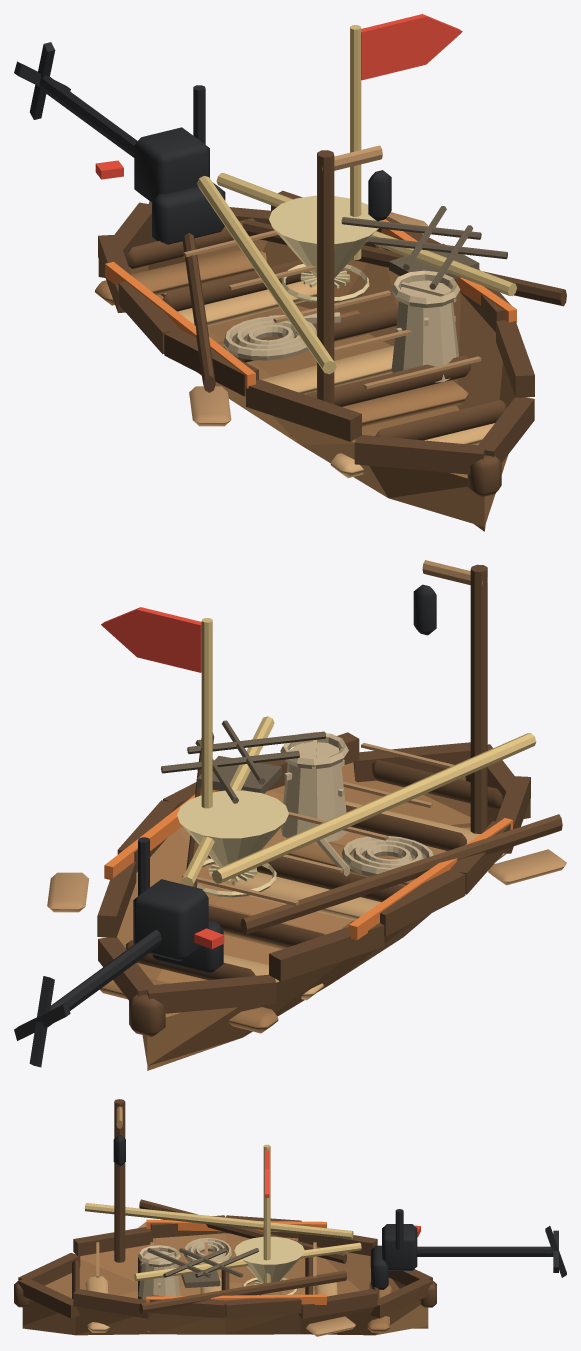
Rendered from FR_Boat_Rescue_A_BlenderSource.fbx.
3 renders of one model, top to bottom at view 1: azimuth 30°, elevation 25°; view 2: azimuth 150°, elevation 25°; view 3: azimuth 270°, elevation 25°, orthographic. The views are drawn at different scales.
Visible parts, largest first — view 1: Boat_Hull_Long_Curved_Wooden, CentralVN_Attached_Red_Rescue_Pennant, Rear_Motor_Block, Vietnamese_Conical_Hat_Non_La, Woven_Basket_Tapered_Body, Lantern_Wooden_Pole, Hull_Dark_Side_Rim_Left_1, Hull_Dark_Side_Rim_Left_2, CentralVN_Bamboo_Pole_Deck_Left, Rear_Motor_Wood_Mount, Inner_Wooden_Floor_Plank_2, Inner_Wooden_Floor_Plank_6 (+37 smaller); view 2: Boat_Hull_Long_Curved_Wooden, Vietnamese_Conical_Hat_Non_La, Wooden_Oar_Left_Handle, CentralVN_Bamboo_Pole_Deck_Left, Rear_Motor_Block, Lantern_Wooden_Pole, CentralVN_Attached_Red_Rescue_Pennant, Woven_Basket_Tapered_Body, Hull_Dark_Side_Rim_Left_6, Hull_Dark_Side_Rim_Left_5, Hull_Dark_Side_Rim_Left_4, CentralVN_Bamboo_Rescue_Flag_Pole (+38 smaller); view 3: Boat_Hull_Long_Curved_Wooden, CentralVN_Bamboo_Pole_Deck_Left, Wooden_Oar_Right_Handle, Vietnamese_Conical_Hat_Non_La, Lantern_Wooden_Pole, Rear_Long_Propeller_Shaft, Rear_Motor_Block, Hull_Dark_Side_Rim_Right_4, Hull_Dark_Side_Rim_Right_2, Hull_Dark_Side_Rim_Right_5, Hull_Dark_Side_Rim_Left_2, Hull_Dark_Side_Rim_Right_1 (+26 smaller).
Part boxes in pixels (x1=…): Boat_Hull_Long_Curved_Wooden: x1=128, y1=239, x2=515, y2=531; CentralVN_Attached_Red_Rescue_Pennant: x1=361, y1=14, x2=462, y2=80; Rear_Motor_Block: x1=134, y1=127, x2=209, y2=202; Vietnamese_Conical_Hat_Non_La: x1=269, y1=195, x2=381, y2=277; Woven_Basket_Tapered_Body: x1=391, y1=280, x2=458, y2=382; Lantern_Wooden_Pole: x1=317, y1=150, x2=334, y2=404; Hull_Dark_Side_Rim_Left_1: x1=354, y1=435, x2=485, y2=474; Hull_Dark_Side_Rim_Left_2: x1=246, y1=379, x2=361, y2=441; CentralVN_Bamboo_Pole_Deck_Left: x1=197, y1=176, x2=336, y2=374; Rear_Motor_Wood_Mount: x1=152, y1=183, x2=225, y2=244; Inner_Wooden_Floor_Plank_2: x1=287, y1=380, x2=468, y2=439; Inner_Wooden_Floor_Plank_6: x1=95, y1=249, x2=266, y2=305; Boat_Hull_Long_Curved_Wooden: x1=117, y1=762, x2=500, y2=1070; Vietnamese_Conical_Hat_Non_La: x1=177, y1=790, x2=288, y2=878; Wooden_Oar_Left_Handle: x1=240, y1=814, x2=562, y2=935; CentralVN_Bamboo_Pole_Deck_Left: x1=212, y1=733, x2=536, y2=883; Rear_Motor_Block: x1=133, y1=879, x2=208, y2=961; Lantern_Wooden_Pole: x1=470, y1=564, x2=487, y2=833; CentralVN_Attached_Red_Rescue_Pennant: x1=101, y1=607, x2=201, y2=672; Woven_Basket_Tapered_Body: x1=280, y1=741, x2=348, y2=844; Hull_Dark_Side_Rim_Left_6: x1=146, y1=974, x2=276, y2=1013; Hull_Dark_Side_Rim_Left_5: x1=269, y1=923, x2=384, y2=981; Hull_Dark_Side_Rim_Left_4: x1=380, y1=869, x2=465, y2=936; CentralVN_Bamboo_Rescue_Flag_Pole: x1=201, y1=618, x2=212, y2=808; Boat_Hull_Long_Curved_Wooden: x1=22, y1=1233, x2=428, y2=1335; CentralVN_Bamboo_Pole_Deck_Left: x1=84, y1=1203, x2=353, y2=1239; Wooden_Oar_Right_Handle: x1=139, y1=1270, x2=346, y2=1313; Vietnamese_Conical_Hat_Non_La: x1=234, y1=1236, x2=304, y2=1283; Lantern_Wooden_Pole: x1=114, y1=1099, x2=125, y2=1262; Rear_Long_Propeller_Shaft: x1=417, y1=1246, x2=553, y2=1256; Rear_Motor_Block: x1=382, y1=1224, x2=417, y2=1270; Hull_Dark_Side_Rim_Right_4: x1=225, y1=1298, x2=301, y2=1318; Hull_Dark_Side_Rim_Right_2: x1=73, y1=1289, x2=152, y2=1318; Hull_Dark_Side_Rim_Right_5: x1=298, y1=1289, x2=377, y2=1318; Hull_Dark_Side_Rim_Left_2: x1=73, y1=1227, x2=152, y2=1256; Hull_Dark_Side_Rim_Right_1: x1=18, y1=1277, x2=80, y2=1318.
Bounding box in the file's own units: 82.07 × 70.5 × 173.
